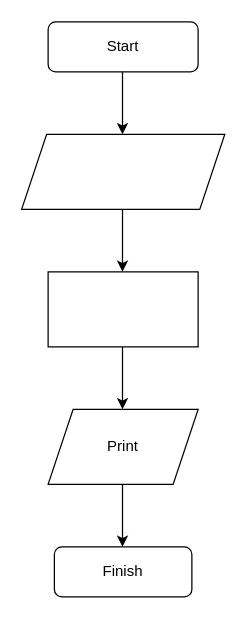
The diagram is 248 pixels wide and 619 high, and some of its shapes have lost their labels. Here are the shapes that lost their labels. From the top down, the centre of each, then its label:
At point 122,171: "Input Byte a = 1 Input Short b = 2 Input Int c = 3".
At point 122,309: "D = A + B + C".
